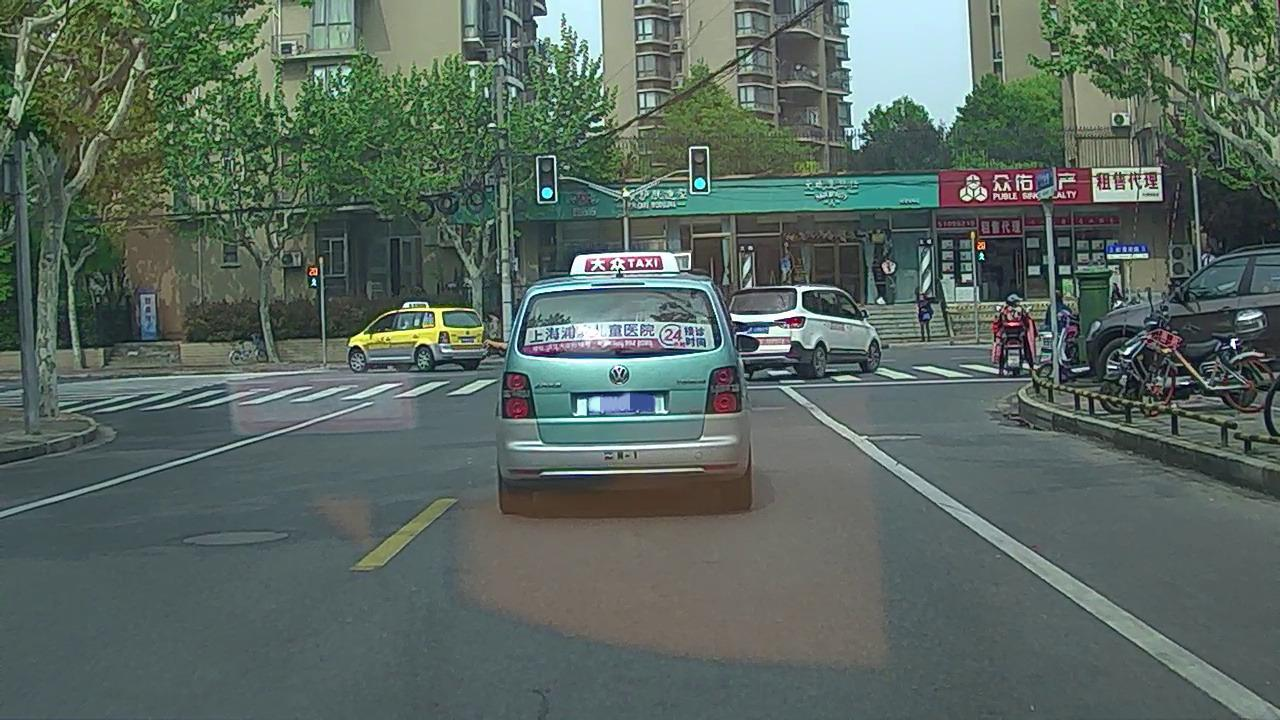traffic_light: (692, 145, 708, 197), (538, 157, 555, 205)
